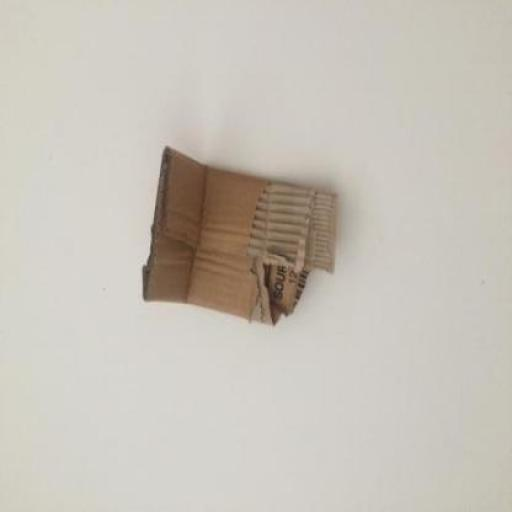cardboard: (139, 144, 339, 326)
